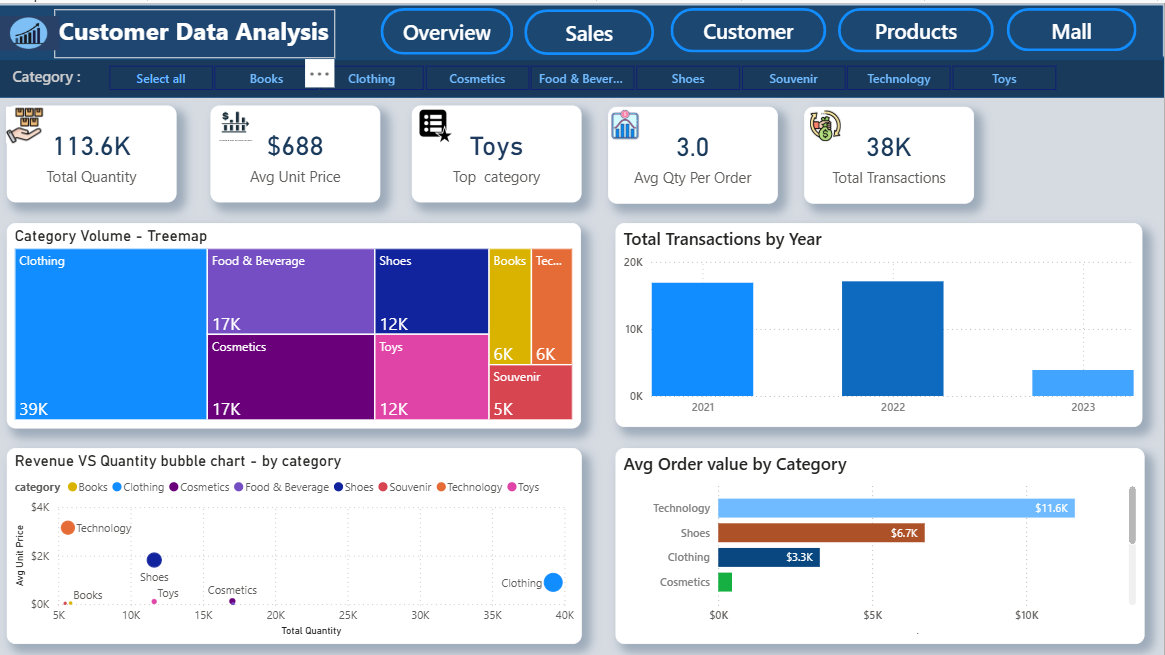

The dashboard page shown, as its layout file describes it:
{"tool":"powerbi","page":{"name":"Products","canvas":[1280,720],"ordinal":3},"visuals":[{"type":"shape","box":[0,58.8,1280,45],"z":0},{"type":"shape","box":[0,1.3,1280.3,61.8],"z":1000},{"type":"card","fields":{"Values":["customer_data_analysis.Total Quantity"]},"box":[10,112.5,186.2,106.2],"z":2000},{"type":"card","fields":{"Values":["customer_data_analysis.Avg Unit Price"]},"box":[233.8,112.5,186.2,106.2],"z":3000},{"type":"card","fields":{"Values":["Max(customer_data_analysis.category)"]},"box":[453.8,112.5,186.2,106.2],"z":4000},{"type":"card","fields":{"Values":["customer_data_analysis.Total Transactions"]},"box":[885,113.8,186.2,106.2],"z":5000},{"type":"card","fields":{"Values":["customer_data_analysis.Avg Qty Per Order"]},"box":[670,113.8,186.2,106.2],"z":6000},{"type":"slicer","fields":{"Values":["customer_data_analysis.category"]},"box":[96.6,61.8,1089.6,39.9],"z":7000},{"type":"textbox","box":[10.3,64.4,86.3,36.1],"z":8000},{"type":"treemap","title":"Category Volume - Treemap ","fields":{"Values":["Sum(customer_data_analysis.quantity)"],"Group":["customer_data_analysis.category"]},"box":[9.9,241.4,630.2,225.3],"z":9000},{"type":"scatterChart","title":"Revenue VS  Quantity  bubble chart - by category","fields":{"X":["customer_data_analysis.Total Quantity"],"Y":["customer_data_analysis.Avg Unit Price"],"Category":["customer_data_analysis.category"],"Size":["customer_data_analysis.Total Revenue"],"Series":["customer_data_analysis.category"]},"box":[9.9,487.8,631.5,215.4],"z":10000},{"type":"barChart","title":"Avg Order value by Category","fields":{"Category":["customer_data_analysis.category"],"Y":["customer_data_analysis.Avg Order Value"]},"box":[678.5,487.8,580.7,215.4],"z":11000},{"type":"columnChart","fields":{"Category":["customer_data_analysis.invoice_date.Variation.Date Hierarchy.Year"],"Y":["customer_data_analysis.Total Transactions"]},"box":[678.5,241.4,578.2,224.1],"z":12000},{"type":"image","box":[234,113.9,52,40.9],"z":13000},{"type":"image","box":[0,113.9,58.2,39.6],"z":14000},{"type":"image","box":[463.1,115.1,35.9,39.6],"z":15000},{"type":"image","box":[669.8,116.4,38.4,34.7],"z":16000},{"type":"image","box":[885.3,117.6,45.8,33.4],"z":17000},{"type":"textbox","box":[62.2,6.3,308.3,54.6],"z":18000},{"type":"image","box":[0,4.9,67.3,55],"z":19000},{"type":"actionButton","title":"Overview","box":[419.4,5.6,145.8,51.4],"z":20000},{"type":"actionButton","title":"Sales","box":[578.4,6.8,142.6,50.2],"z":21000},{"type":"actionButton","title":"Customer","box":[738.6,5.4,171.1,48.9],"z":22000},{"type":"actionButton","title":"Customer","box":[921.9,5.4,171.1,48.9],"z":23000},{"type":"actionButton","box":[1107.9,5.4,142.6,47.5],"z":24000}]}

Visuals, with their boxes in screenshot pixels (x1, y1, x2, y2), scaled from the page's 1280x720 canvas onto the 1165x655 screenshot:
shape: box(0, 53, 1164, 94)
shape: box(0, 1, 1164, 57)
card - customer_data_analysis.Total Quantity: box(9, 102, 179, 199)
card - customer_data_analysis.Avg Unit Price: box(213, 102, 382, 199)
card - Max(customer_data_analysis.category): box(413, 102, 582, 199)
card - customer_data_analysis.Total Transactions: box(805, 104, 975, 200)
card - customer_data_analysis.Avg Qty Per Order: box(610, 104, 779, 200)
slicer - customer_data_analysis.category: box(88, 56, 1080, 93)
textbox: box(9, 59, 88, 91)
"Category Volume - Treemap " treemap: box(9, 220, 583, 425)
"Revenue VS  Quantity  bubble chart - by category" scatterChart: box(9, 444, 584, 640)
"Avg Order value by Category" barChart: box(618, 444, 1146, 640)
columnChart - customer_data_analysis.invoice_date.Variation.Date Hierarchy.Year x customer_data_analysis.Total Transactions: box(618, 220, 1144, 423)
image: box(213, 104, 260, 141)
image: box(0, 104, 53, 140)
image: box(421, 105, 454, 141)
image: box(610, 106, 645, 137)
image: box(806, 107, 847, 137)
textbox: box(57, 6, 337, 55)
image: box(0, 4, 61, 54)
"Overview" actionButton: box(382, 5, 514, 52)
"Sales" actionButton: box(526, 6, 656, 52)
"Customer" actionButton: box(672, 5, 828, 49)
"Customer" actionButton: box(839, 5, 995, 49)
actionButton: box(1008, 5, 1138, 48)
